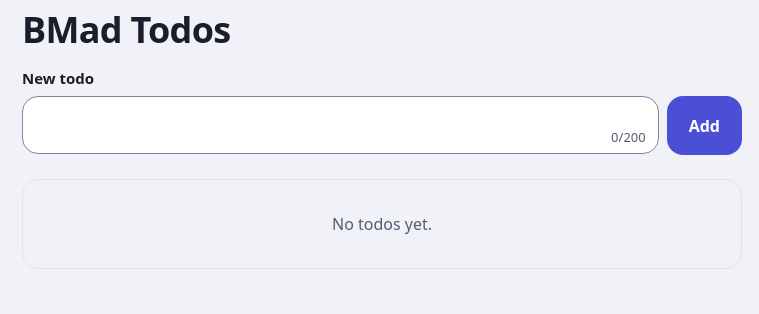
Test: AddForm validation › K1 refuses an empty submit by Add inline and sends nothing
Click the button "Add" at (704, 126), box [667,96,742,155]
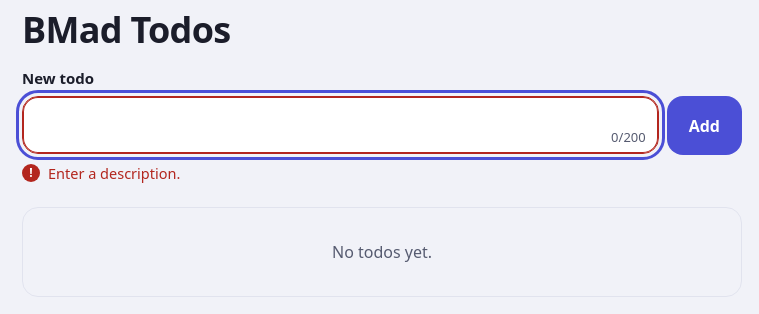
Result: the text "Enter a description." is shown at [48,163,180,183]
